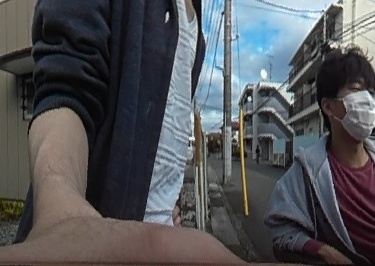person: (257, 51, 375, 266)
